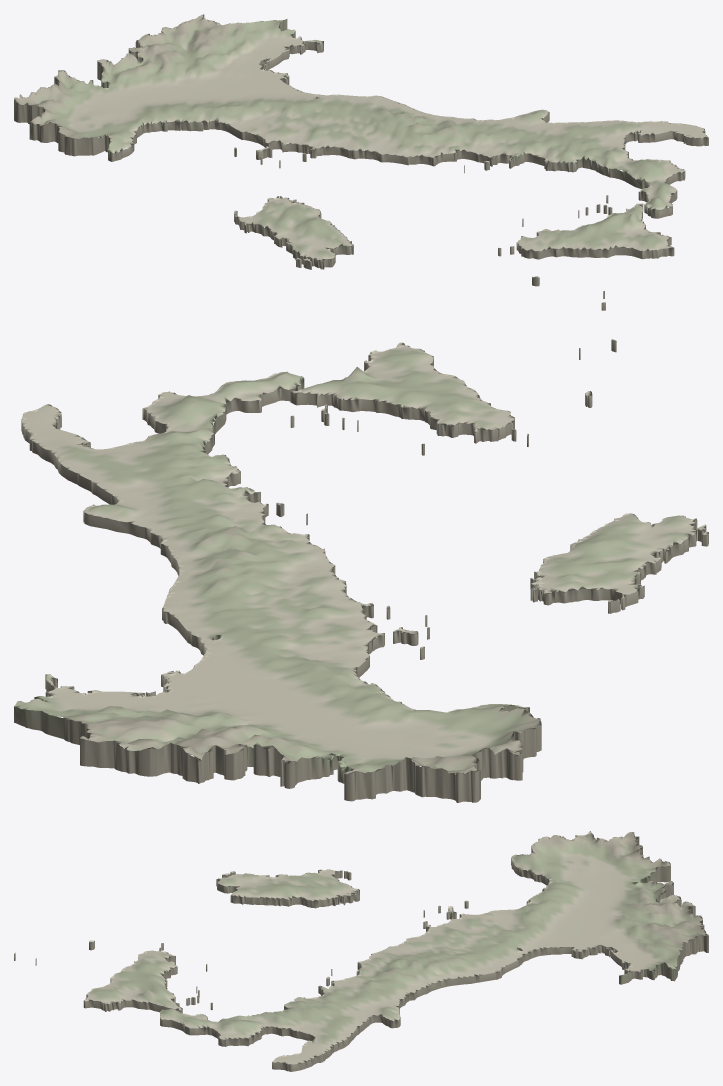
File: it-desktop.glb
The picture shows the model from 3 angles, top to bottom: view 1: azimuth 30°, elevation 25°; view 2: azimuth 150°, elevation 25°; view 3: azimuth 270°, elevation 25°; orthographic projection. The views are drawn at different scales.
Bounding box in the file's own units: 76.36 × 3.29 × 99.98.
